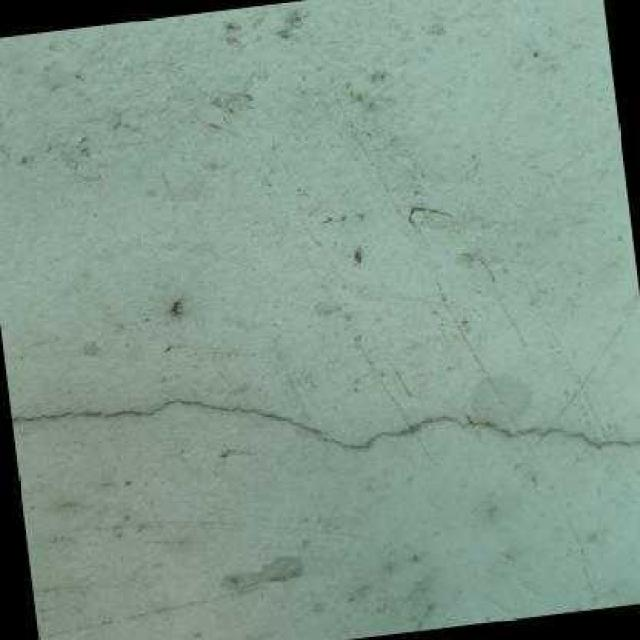D00: (9, 399, 640, 450)
